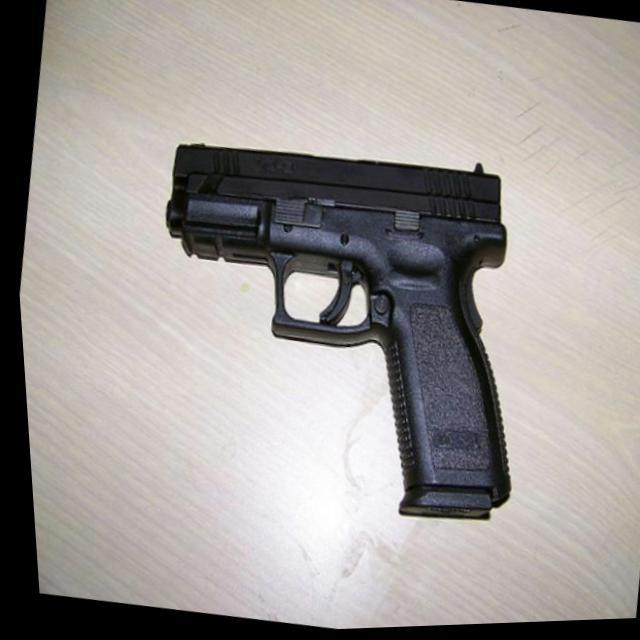weapon: (114, 114, 557, 541)
